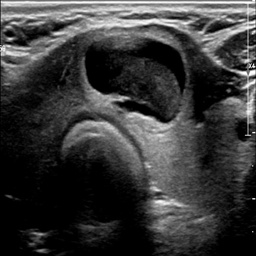mass: (81, 25, 190, 127)
